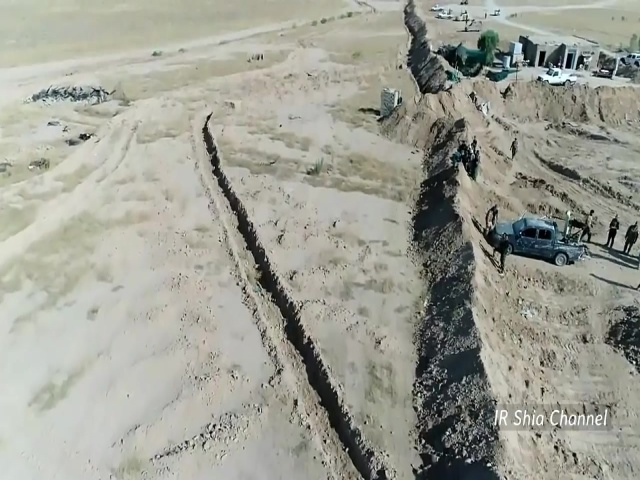person: (605, 214, 621, 247), (497, 235, 510, 274), (581, 208, 593, 242), (508, 137, 518, 160)
vehicle: (493, 216, 585, 268), (536, 66, 577, 88)
